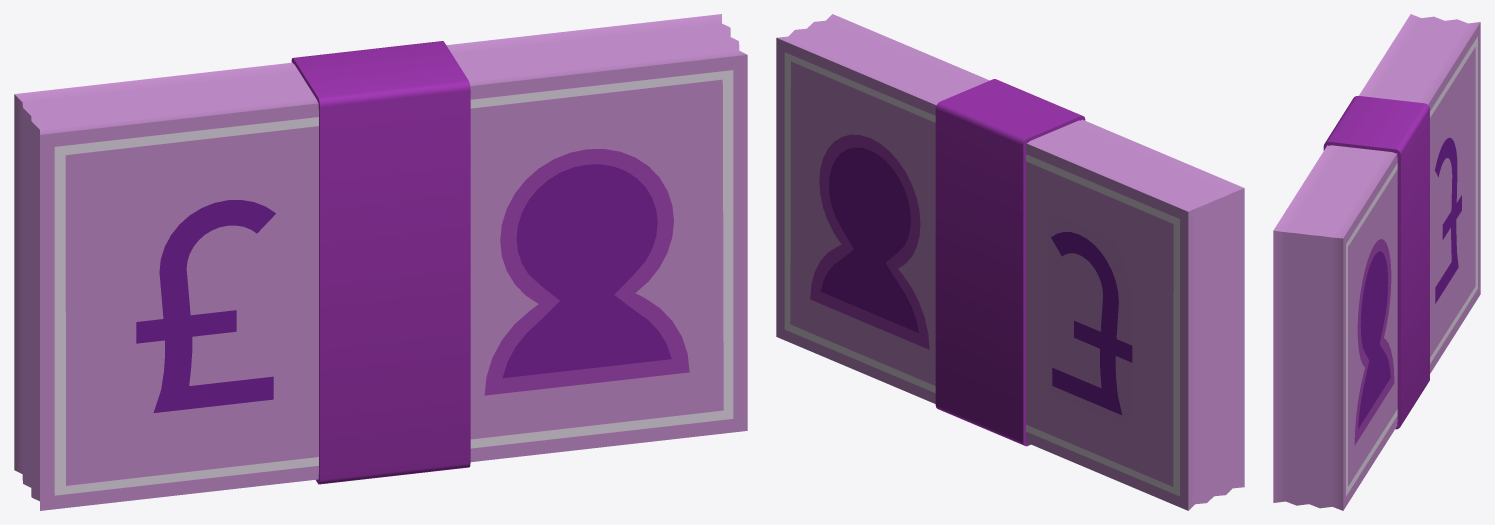
File: pound_banknote.gltf
3 renders of one model, left to right at view 1: azimuth 30°, elevation 25°; view 2: azimuth 150°, elevation 25°; view 3: azimuth 270°, elevation 25°, orthographic. The views are drawn at different scales.
Parts seen in each view (by area): view 1: Cube.958; view 2: Cube.958; view 3: Cube.958.
Part boxes in pixels (x1,y1,x2,y2): Cube.958: [14, 14, 747, 510]; Cube.958: [776, 14, 1244, 510]; Cube.958: [1273, 14, 1480, 510].
Bounding box in the file's own units: 2.2 × 1.28 × 0.8586.
Materials: 1 (1 with a texture image).
